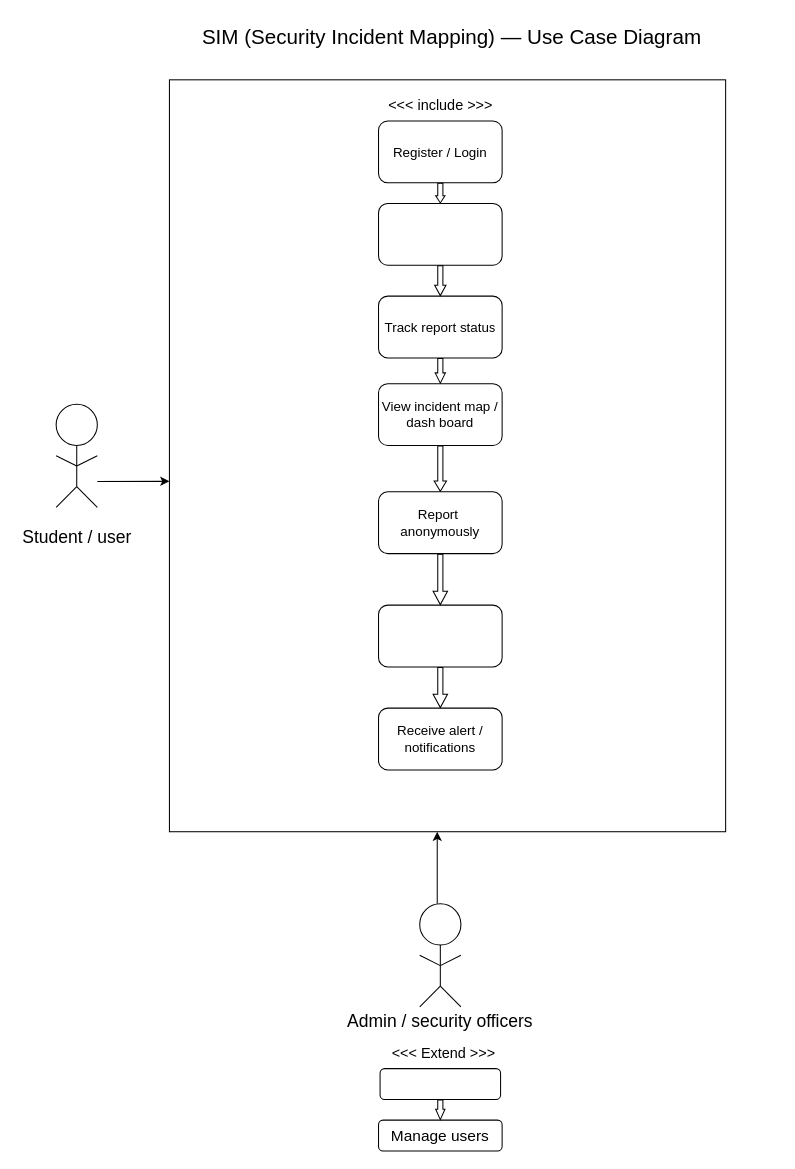
This 795x1169 diagram has some shape labels left out. The shapes that lost their labels are listed below. From the top down, each one's centre as x and y in pixels, then its label:
At (x=439, y=233): "Report security incident".
At (x=439, y=635): "Attach evidence Photo / locations".
At (x=440, y=1084): "Verift report".
